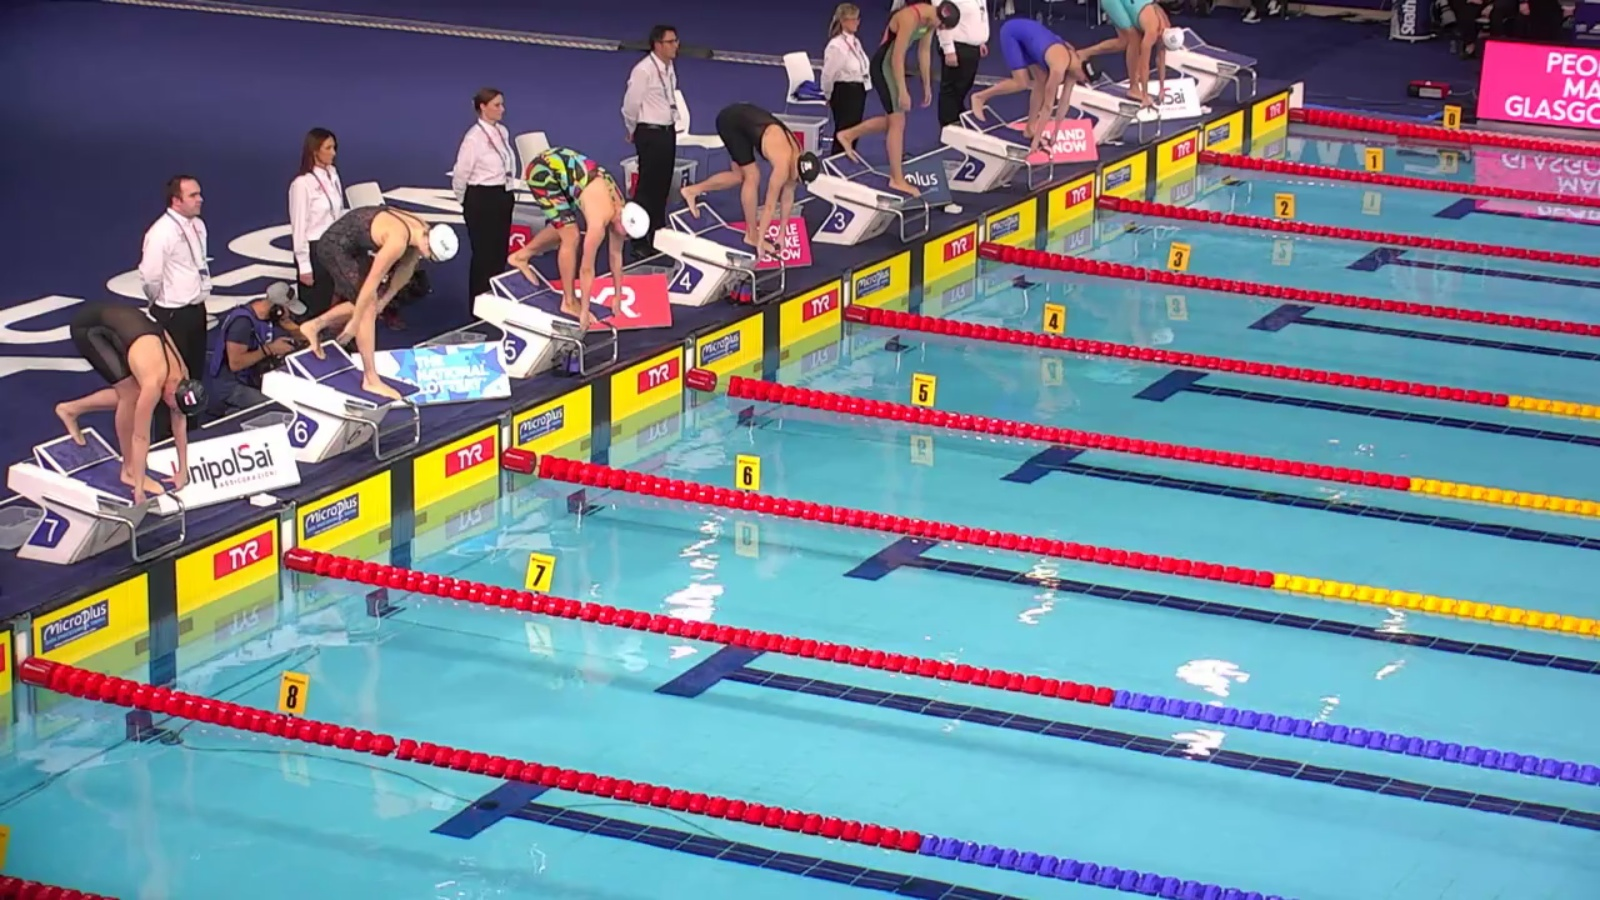swimmerw: (301, 211, 462, 407), (51, 299, 203, 501), (509, 141, 649, 329), (827, 1, 959, 197), (681, 105, 821, 263), (970, 19, 1098, 163), (1078, 1, 1184, 112)
